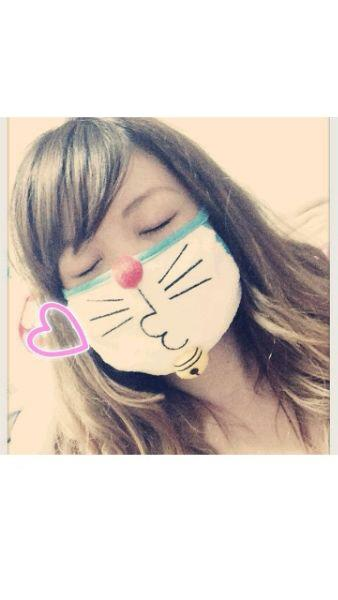OK: (57, 192, 235, 370)
